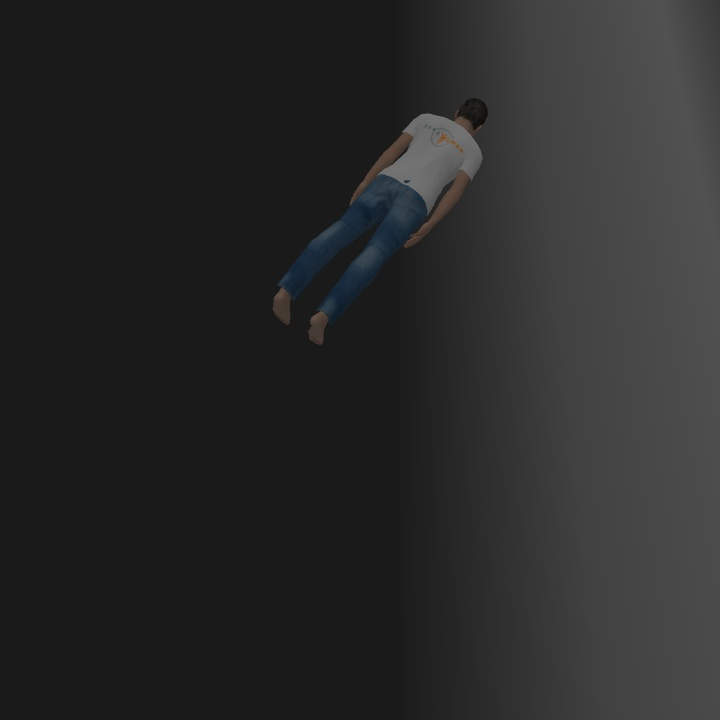victim: (273, 95, 490, 347)
